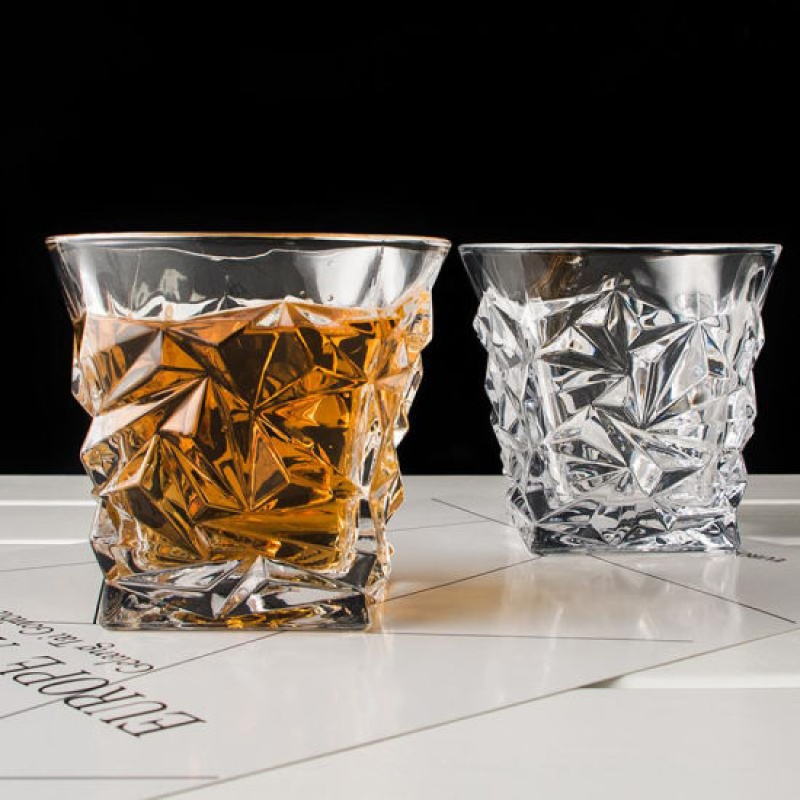whiskey: (42, 220, 434, 628)
